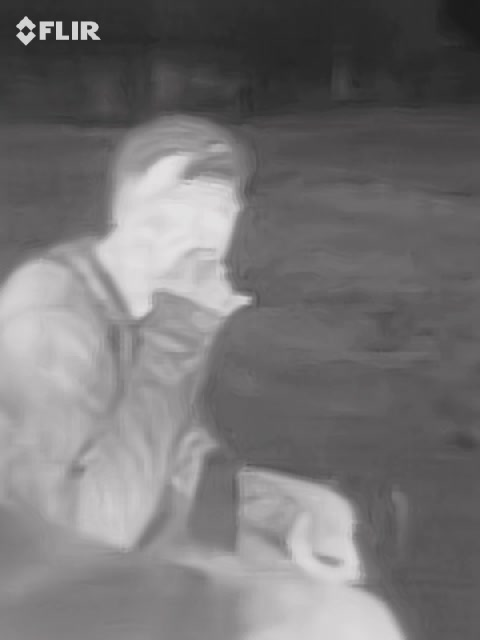head: (110, 117, 259, 306)
